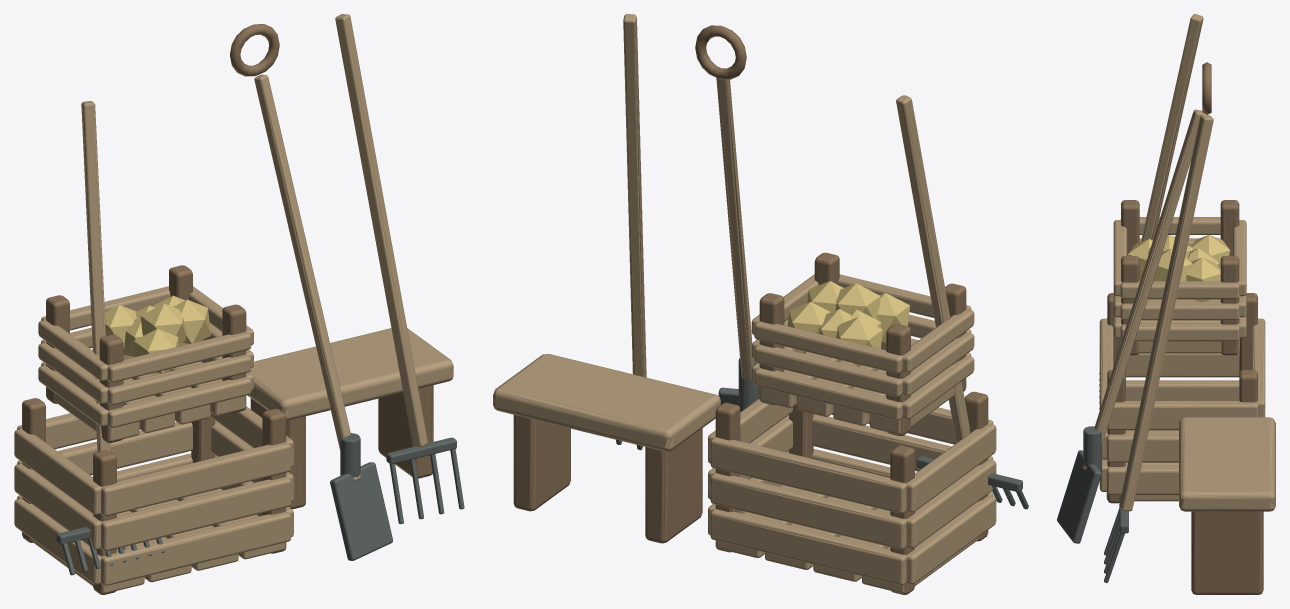
File: SM_ToolCluster.fbx
3 renders of one model, left to right at view 1: azimuth 30°, elevation 25°; view 2: azimuth 150°, elevation 25°; view 3: azimuth 270°, elevation 25°, orthographic. The views are drawn at different scales.
Parts seen in each view (by area): view 1: SM_ToolCluster; view 2: SM_ToolCluster; view 3: SM_ToolCluster.
Boxes of the visible parts, left/top/right/bottom form: SM_ToolCluster: left=14, top=14, right=464, bottom=594; SM_ToolCluster: left=493, top=14, right=1028, bottom=594; SM_ToolCluster: left=1057, top=14, right=1275, bottom=594.
Bounding box in the file's own units: 186 × 87.94 × 201.
